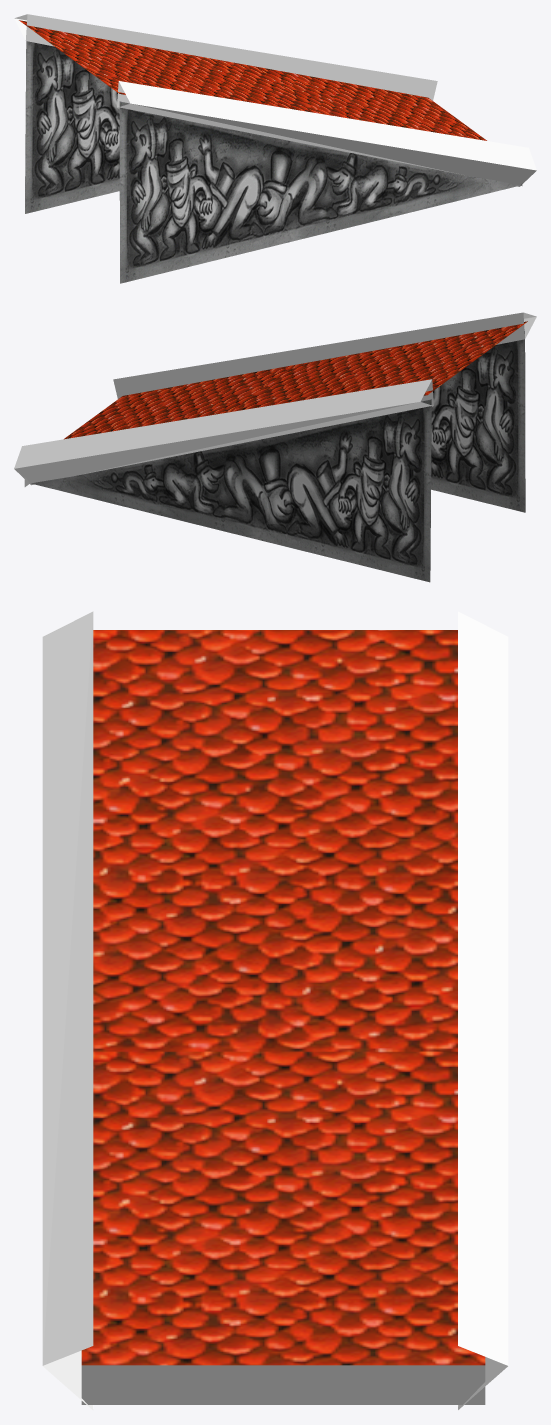
Rendered from Dach_TempelGiebel_373.glb.
The picture shows the model from 3 angles, top to bottom: view 1: azimuth 30°, elevation 25°; view 2: azimuth 150°, elevation 25°; view 3: azimuth 270°, elevation 25°; orthographic projection. The views are drawn at different scales.
Parts seen in each view (by area): view 1: pPlaneShape11, pPlaneShape8, pCylinderShape5, pPlaneShape10, pCylinderShape4; view 2: pPlaneShape10, pPlaneShape8, pCylinderShape4, pPlaneShape11, pCylinderShape5; view 3: pPlaneShape8, pCylinderShape5, pCylinderShape4, polySurfaceShape1038.
Boxes of the visible parts, box(x1,y1,x2,y2) form: pPlaneShape11: box(119, 101, 519, 283); pPlaneShape8: box(19, 20, 486, 140); pCylinderShape5: box(117, 81, 536, 186); pPlaneShape10: box(25, 41, 119, 213); pCylinderShape4: box(14, 14, 437, 100); pPlaneShape10: box(31, 399, 431, 582); pPlaneShape8: box(64, 321, 527, 439); pCylinderShape4: box(14, 379, 433, 485); pPlaneShape11: box(431, 331, 525, 512); pCylinderShape5: box(113, 312, 536, 398); pPlaneShape8: box(81, 630, 485, 1365); pCylinderShape5: box(42, 611, 93, 1410); pCylinderShape4: box(458, 611, 508, 1409); polySurfaceShape1038: box(81, 1365, 485, 1404).
Size of the model in its own units: 1.04 by 0.4933 by 0.5109.
6 materials, 3 textured.
